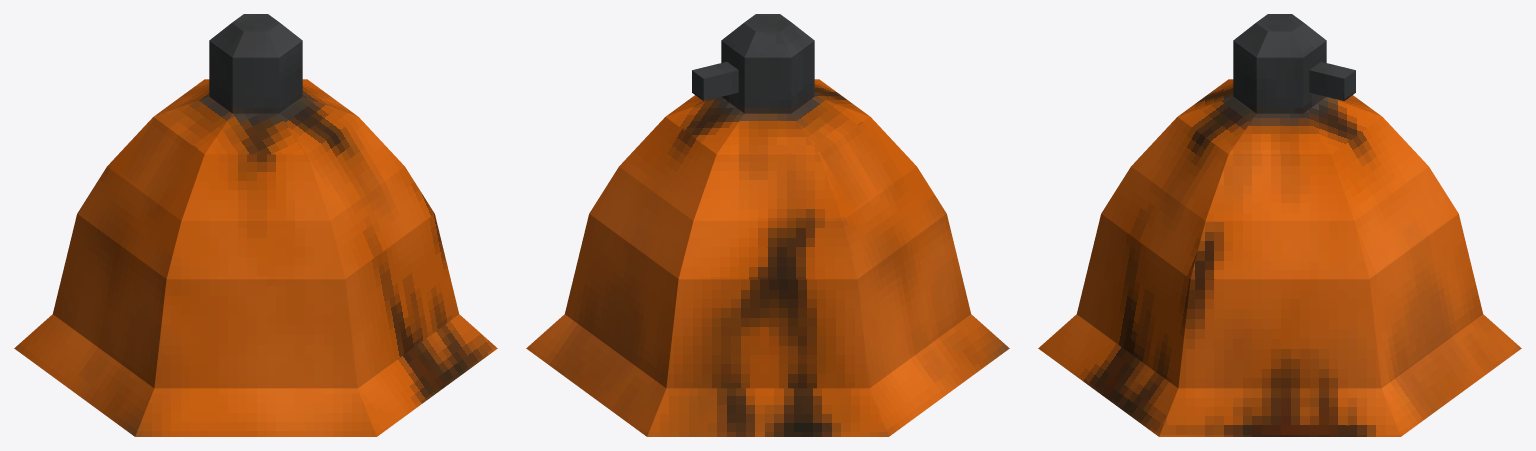
Rendered from WallLampBody.glb.
The picture shows the model from 3 angles, left to right: view 1: azimuth 30°, elevation 25°; view 2: azimuth 150°, elevation 25°; view 3: azimuth 270°, elevation 25°; orthographic projection.
Visible parts, largest first — view 1: Cylinder; view 2: Cylinder; view 3: Cylinder.
Part boxes in pixels (left/top/right/bottom): Cylinder: left=14, top=14, right=497, bottom=436; Cylinder: left=526, top=14, right=1009, bottom=436; Cylinder: left=1038, top=14, right=1521, bottom=436.
Size of the model in its own units: 2.06 by 1.78 by 2.38.
Materials: 1 (1 with a texture image).
